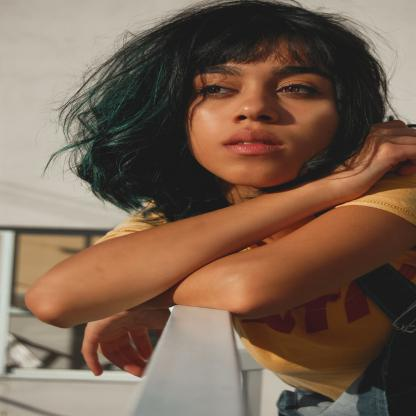Eye: (268, 77, 323, 100), (195, 79, 244, 104)
Mouth: (214, 128, 292, 158)
Nose: (229, 83, 279, 127)
